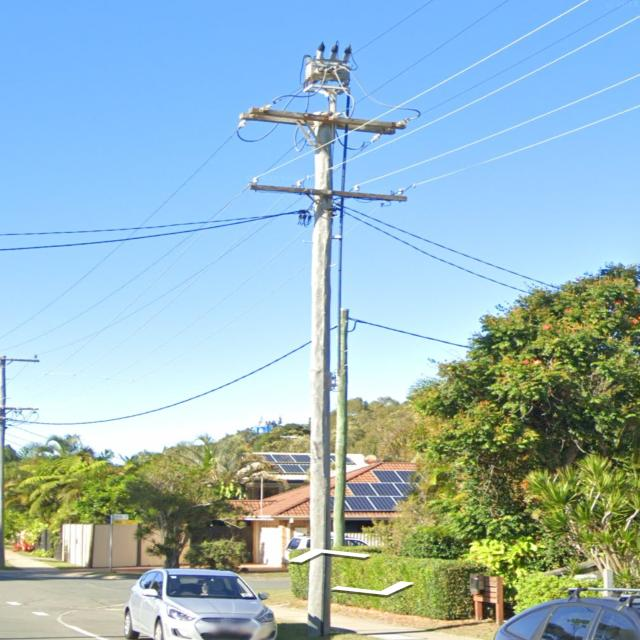HV-switch: (301, 41, 353, 84)
HV-transmission: (238, 104, 420, 134)
crossarm: (248, 108, 406, 130), (239, 112, 395, 134), (248, 184, 407, 204), (0, 357, 42, 364), (0, 405, 40, 412)
timber-pole: (306, 109, 337, 633), (334, 307, 350, 548), (0, 353, 10, 570)
